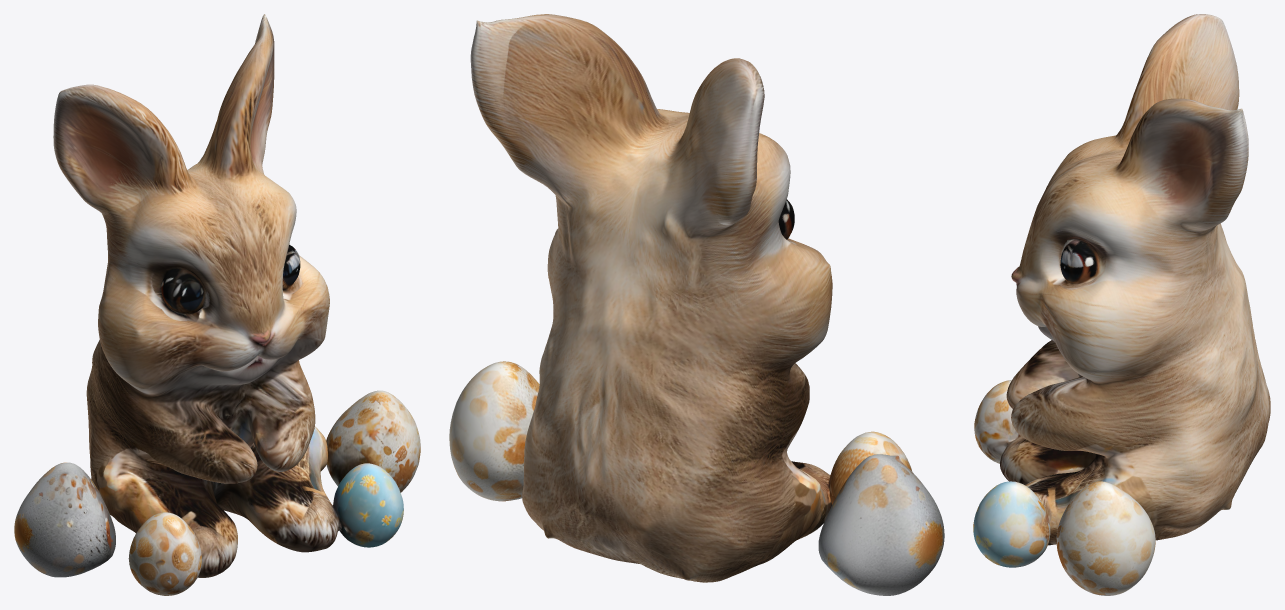
File: 3D COELHO DA PÁSCOA.glb
3 views of the same model, side by side, from view 1: azimuth 30°, elevation 25°; view 2: azimuth 150°, elevation 25°; view 3: azimuth 270°, elevation 25° (orthographic). The views are drawn at different scales.
Parts seen in each view (by area): view 1: geometry_0; view 2: geometry_0; view 3: geometry_0.
Boxes of the visible parts, <box> form: geometry_0: <box>14,14,420,595</box>; geometry_0: <box>449,14,944,595</box>; geometry_0: <box>973,14,1270,595</box>.
Bounding box in the file's own units: 1.72 × 1.88 × 1.1.
Materials: 1 (1 with a texture image).
